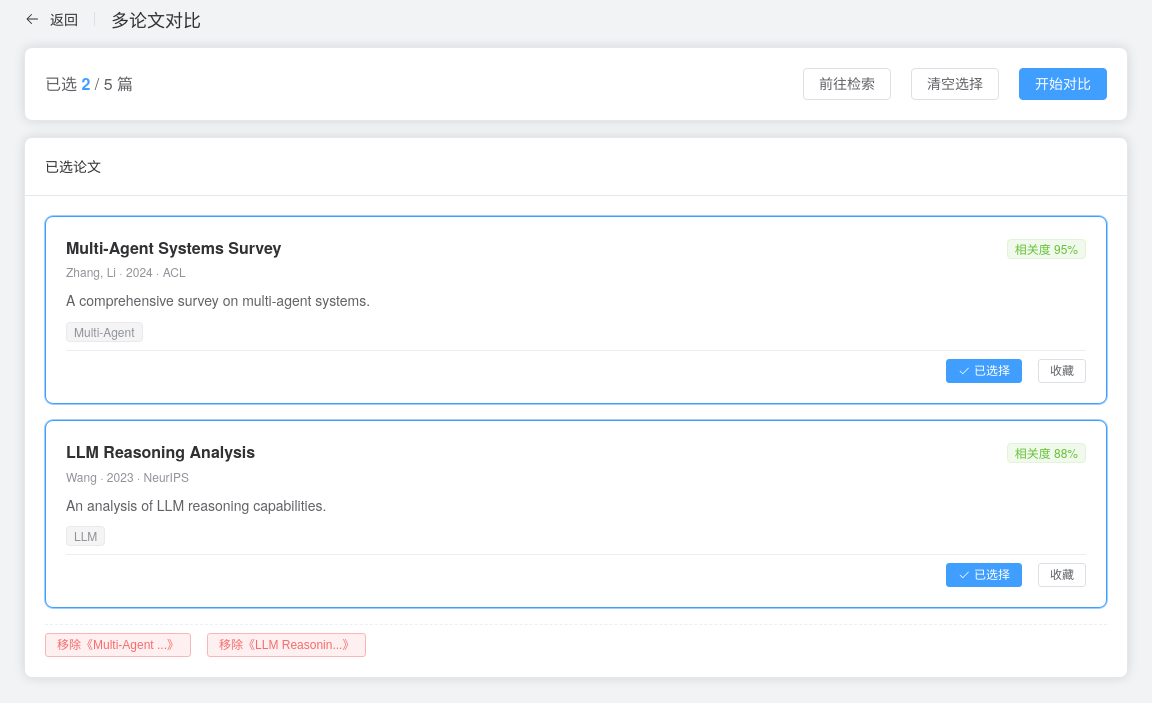
Scenario: CompareView › 降级提示（resultDegraded=true）显示 el-alert
The image size is (1152, 703).
Click the button "开始对比".
click(1063, 84)  # box 1019,68 -> 1107,100
(page scrolled)
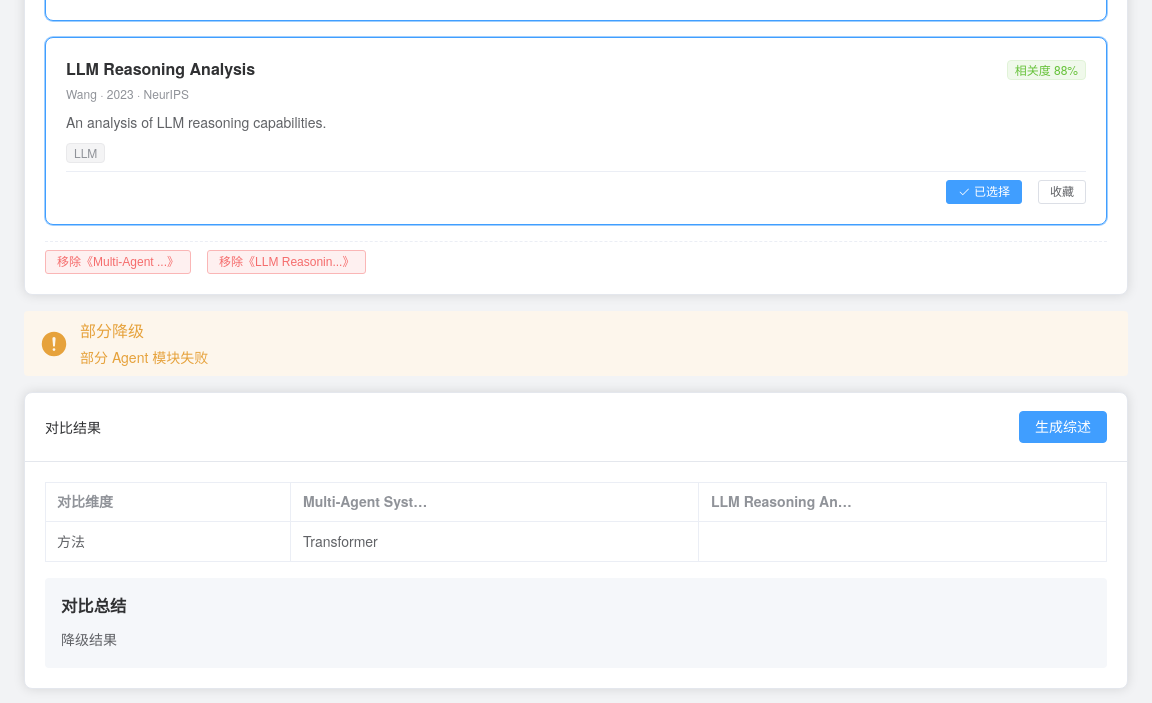
Result: the element with class "compare-view__degraded" is shown at 24,311 -> 1128,376
Result: the element with class "compare-view__degraded" shows "部分降级" at 80,319 -> 144,342
Result: the element with class "compare-view__degraded" shows "部分 Agent 模块失败" at 80,347 -> 208,367
